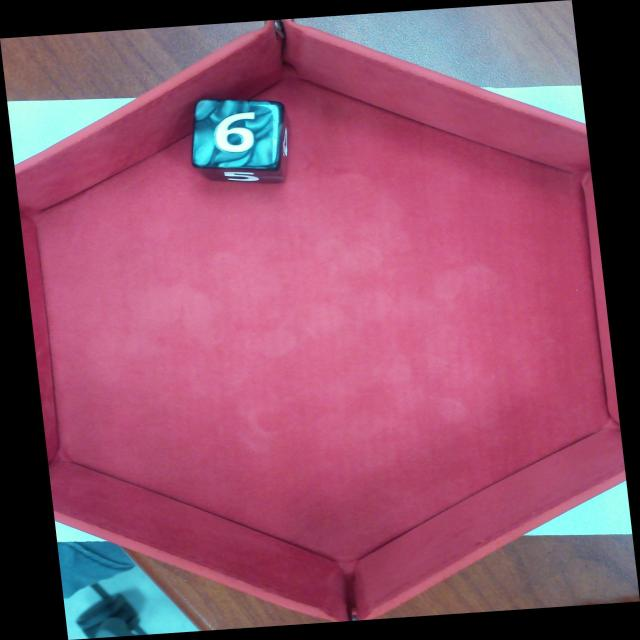dice: (193, 97, 285, 168)
